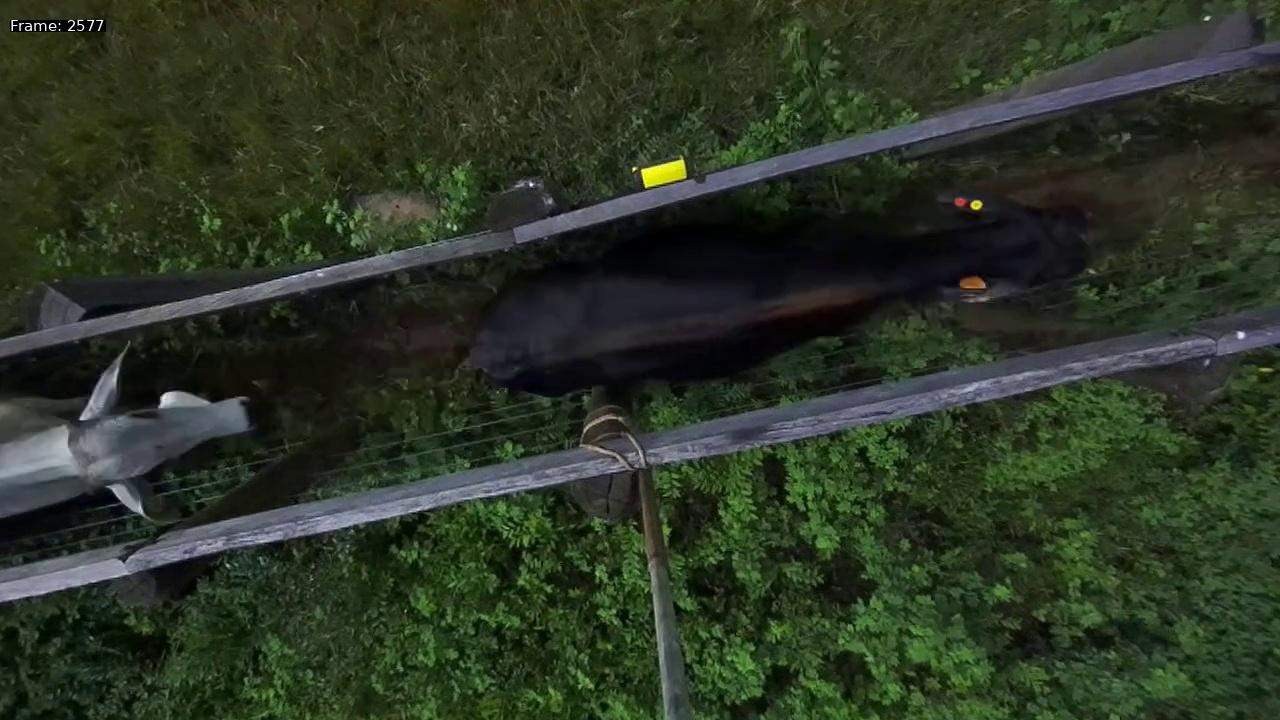cattle: (444, 164, 1098, 405)
